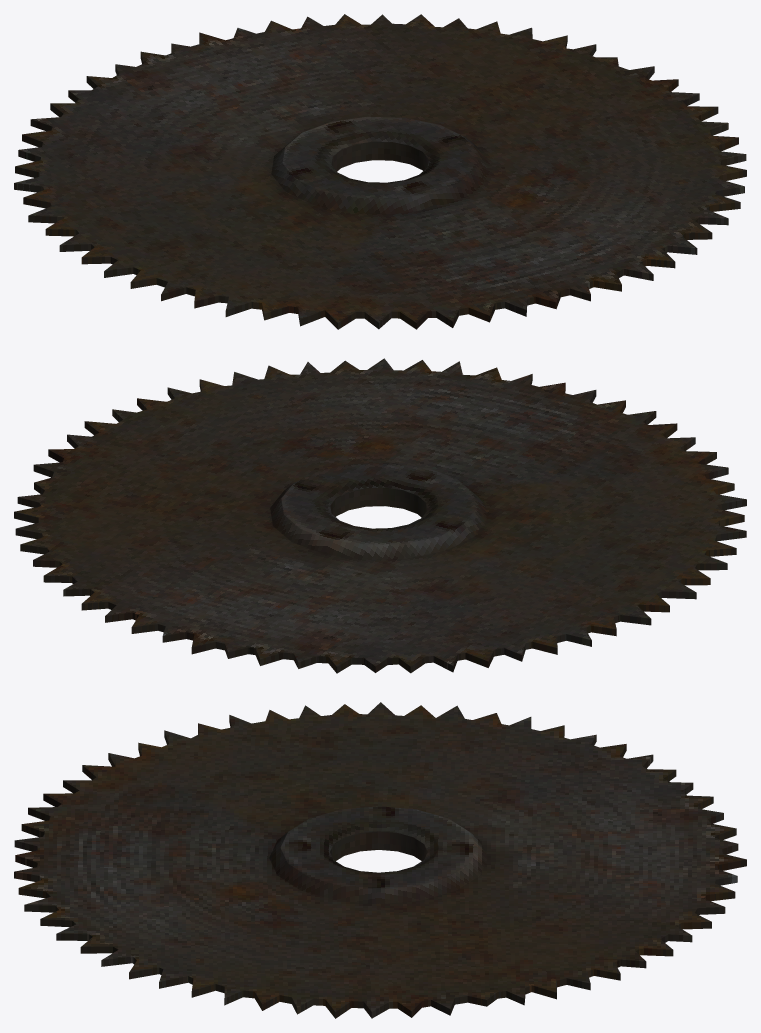
File: saw_blade_1.glb
The picture shows the model from 3 angles, top to bottom: view 1: azimuth 30°, elevation 25°; view 2: azimuth 150°, elevation 25°; view 3: azimuth 270°, elevation 25°; orthographic projection.
Visible parts, largest first — view 1: saw_blade_1; view 2: saw_blade_1; view 3: saw_blade_1.
Part boxes in pixels (x1,y1,x2,y2): saw_blade_1: [14, 14, 746, 329]; saw_blade_1: [14, 358, 746, 673]; saw_blade_1: [14, 702, 746, 1018].
Bounding box in the file's own units: 0.5934 × 0.024 × 0.5927.
1 material, 1 textured.
